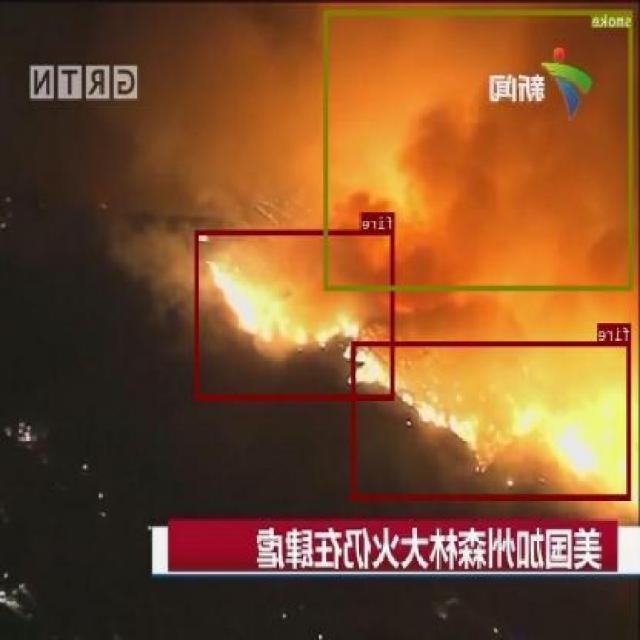Fire: (352, 340, 632, 498), (196, 230, 396, 398)
Smoke: (324, 9, 634, 289)
